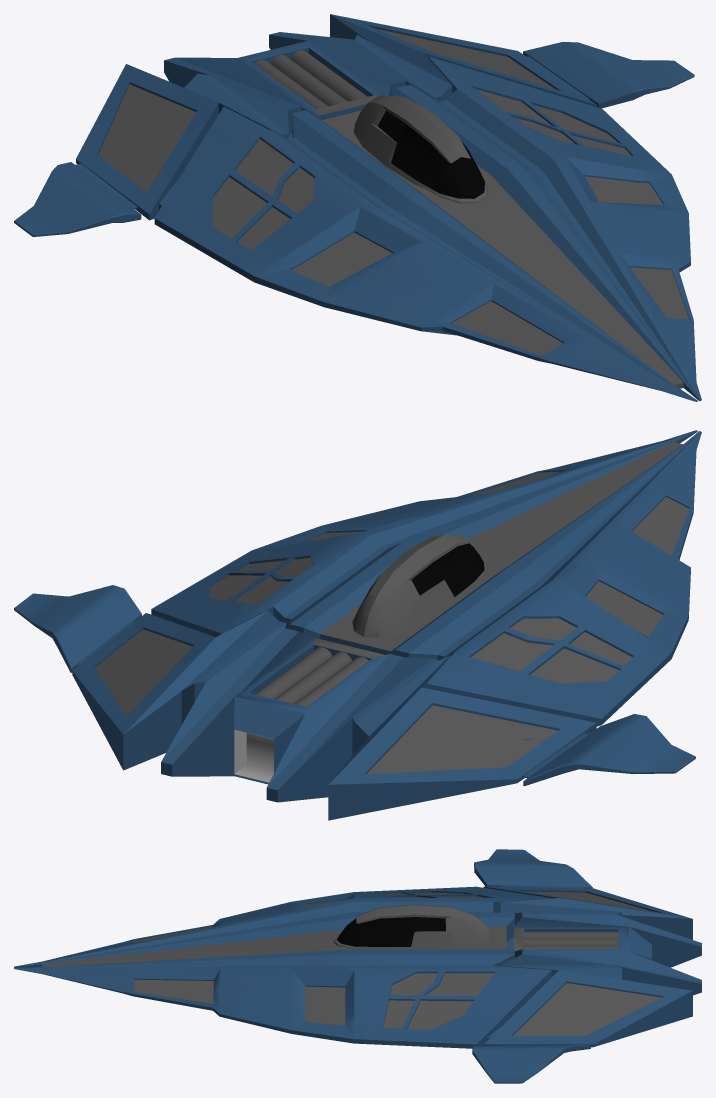
File: spaceship.fbx
3 renders of one model, top to bottom at view 1: azimuth 30°, elevation 25°; view 2: azimuth 150°, elevation 25°; view 3: azimuth 270°, elevation 25°, orthographic. The views are drawn at different scales.
Visible parts, largest first — view 1: spaceship; view 2: spaceship; view 3: spaceship.
Part boxes in pixels (x1,y1,x2,y2): spaceship: [14, 14, 701, 401]; spaceship: [14, 430, 701, 820]; spaceship: [14, 849, 701, 1083].
Bounding box in the file's own units: 1736 × 337 × 2167.
